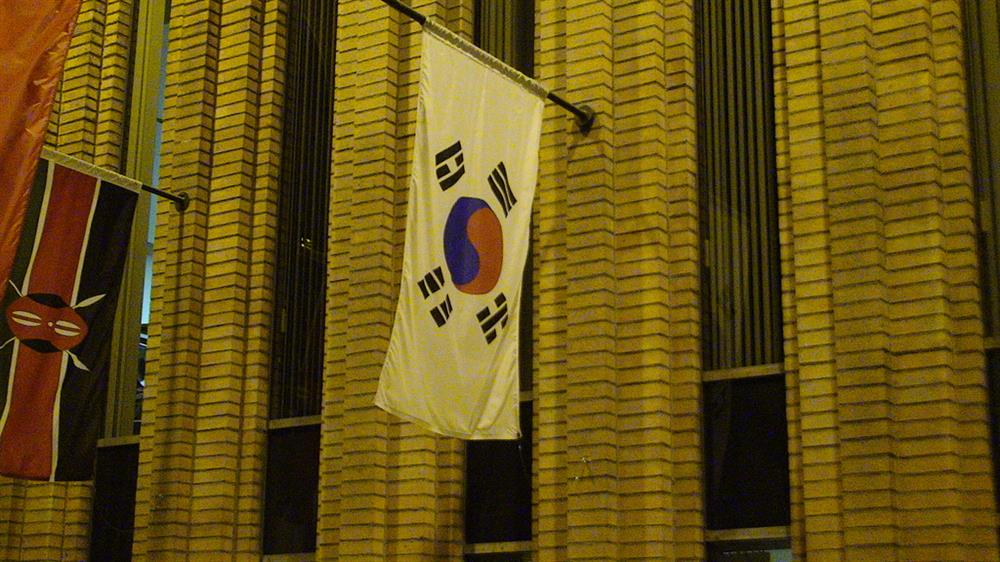Korean_flag: (369, 14, 541, 436)
